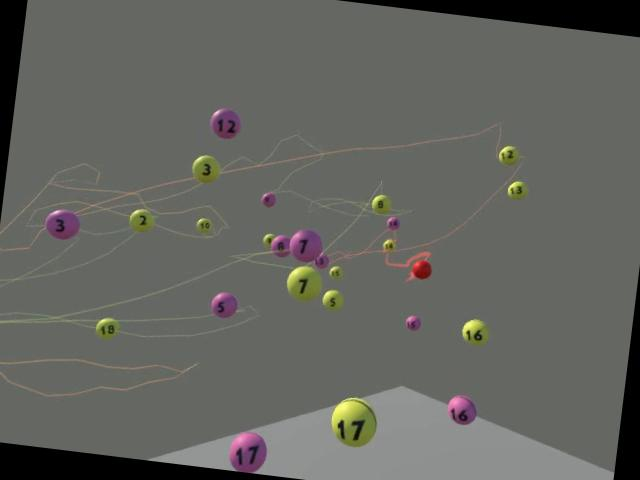ball_02_yellow: (126, 206, 154, 234)
ball_03_pink: (42, 208, 80, 242)
ball_03_yellow: (190, 154, 221, 184)
ball_05_pink: (209, 292, 238, 320)
ball_05_yellow: (320, 288, 344, 312)
ball_07_pink: (286, 226, 324, 263)
ball_07_yellow: (284, 264, 322, 302)
ball_08_pink: (268, 233, 292, 258)
ball_08_yellow: (370, 193, 391, 215)
ball_09_pink: (260, 192, 276, 208)
ball_10_yellow: (194, 216, 212, 234)
ball_12_pink: (208, 106, 242, 140)
ball_12_yellow: (496, 144, 518, 166)
ball_13_pink: (312, 252, 330, 270)
ball_13_yellow: (506, 180, 528, 199)
ball_14_pink: (384, 214, 400, 230)
ball_14_yellow: (382, 239, 396, 252)
ball_15_pink: (404, 314, 421, 332)
ball_15_yellow: (327, 264, 342, 280)
ball_16_pink: (445, 393, 477, 426)
ball_16_yellow: (460, 317, 490, 346)
ball_17_pink: (226, 428, 268, 474)
ball_17_yellow: (327, 395, 379, 449)
ball_18_yellow: (94, 316, 120, 341)
ball_unknown: (260, 232, 276, 248)
user_cursor: (410, 258, 432, 280)
